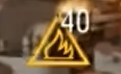1fire: (21, 32, 98, 69)
